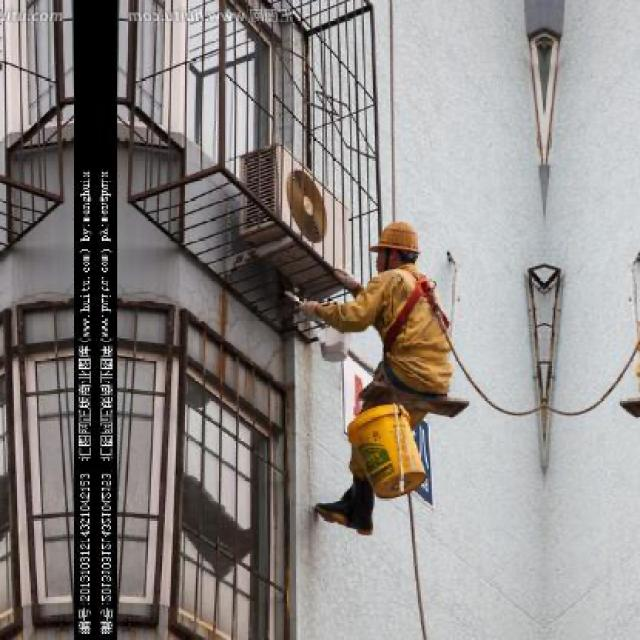helmet: (367, 212, 430, 283)
